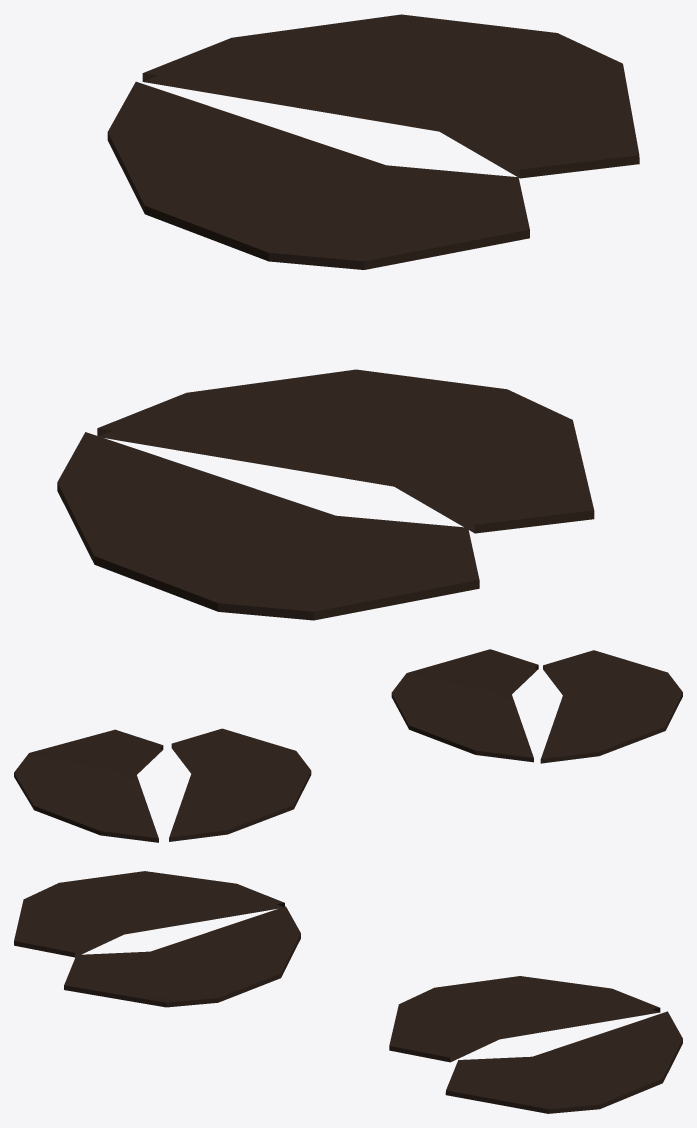
File: footprints.fbx
3 renders of one model, top to bottom at view 1: azimuth 30°, elevation 25°; view 2: azimuth 150°, elevation 25°; view 3: azimuth 270°, elevation 25°, orthographic. The views are drawn at different scales.
Visible parts, largest first — view 1: pCylinder5, pCylinder3, pCylinder2, pCylinder4; view 2: pCylinder5, pCylinder3, pCylinder2, pCylinder4; view 3: pCylinder5, pCylinder3, pCylinder4, pCylinder2.
Part boxes in pixels (bbox=[...]): pCylinder5: bbox=[142, 14, 639, 178]; pCylinder3: bbox=[97, 369, 594, 533]; pCylinder2: bbox=[57, 432, 479, 620]; pCylinder4: bbox=[107, 81, 529, 269]; pCylinder5: bbox=[14, 729, 163, 842]; pCylinder3: bbox=[391, 649, 538, 762]; pCylinder2: bbox=[540, 650, 682, 763]; pCylinder4: bbox=[169, 728, 311, 841]; pCylinder5: bbox=[445, 1011, 682, 1113]; pCylinder3: bbox=[64, 906, 300, 1007]; pCylinder4: bbox=[389, 976, 660, 1062]; pCylinder2: bbox=[14, 871, 284, 957].
Bounding box in the file's own units: 364 × 4.68 × 433.
